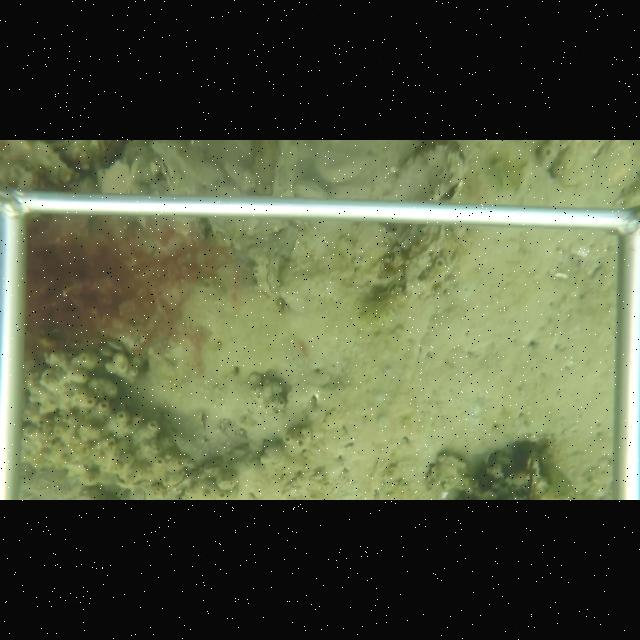Oyster-Closed: (252, 252, 285, 297)
Oyster-Open: (431, 149, 469, 201)
